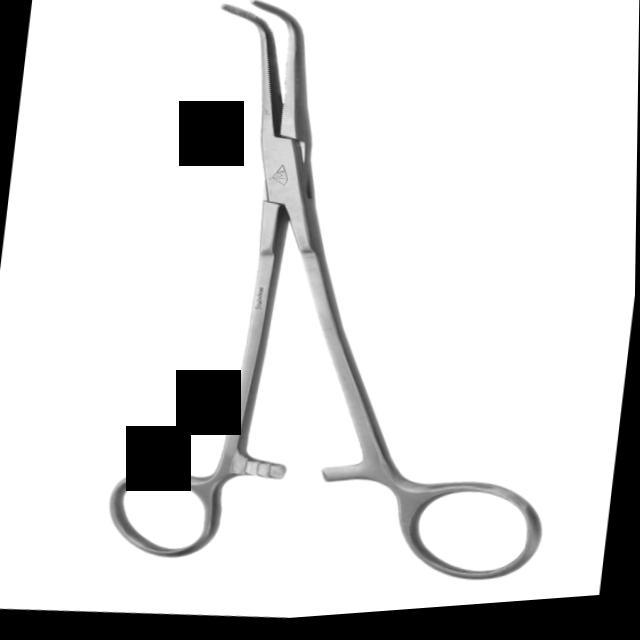Rectangle Cholecystectomy Forceps: (89, 0, 608, 621)
